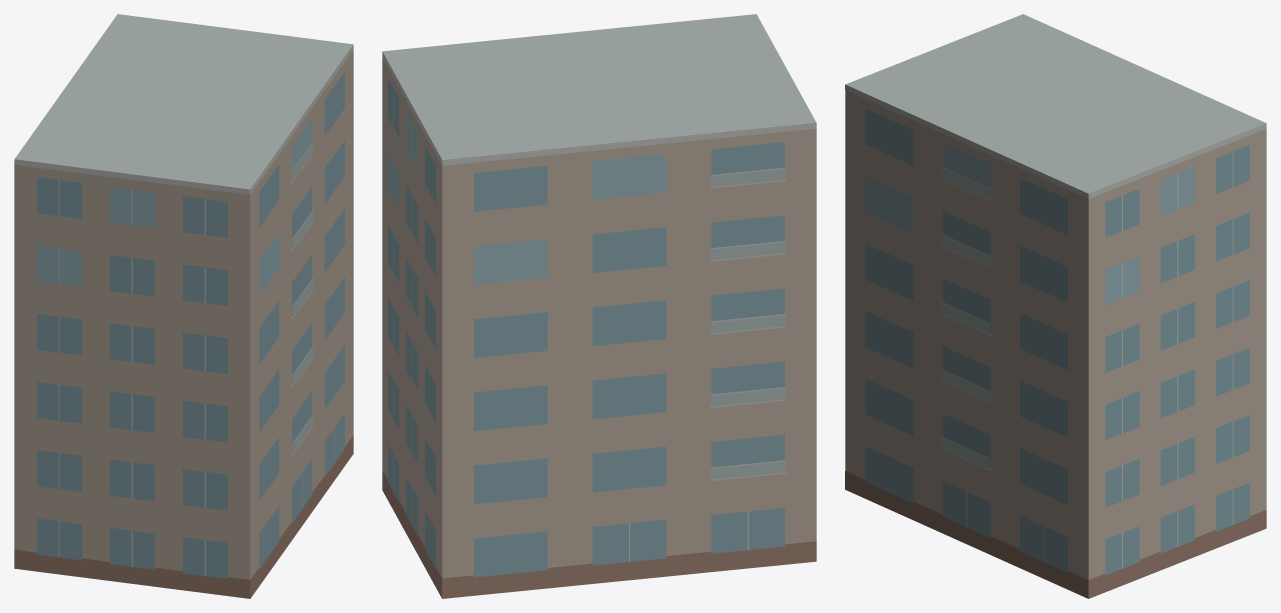
Rendered from survey-upis-32710568.glb.
3 views of the same model, side by side, from view 1: azimuth 30°, elevation 25°; view 2: azimuth 150°, elevation 25°; view 3: azimuth 270°, elevation 25° (orthographic). The views are drawn at different scales.
Parts seen in each view (by area): view 1: survey-upis-32710568.tmp; view 2: survey-upis-32710568.tmp; view 3: survey-upis-32710568.tmp.
Part boxes in pixels (left/top/right/bottom): survey-upis-32710568.tmp: left=14, top=14, right=353, bottom=598; survey-upis-32710568.tmp: left=382, top=14, right=816, bottom=598; survey-upis-32710568.tmp: left=845, top=14, right=1266, bottom=598.
Size of the model in its own units: 17.41 by 18.3 by 17.26.
